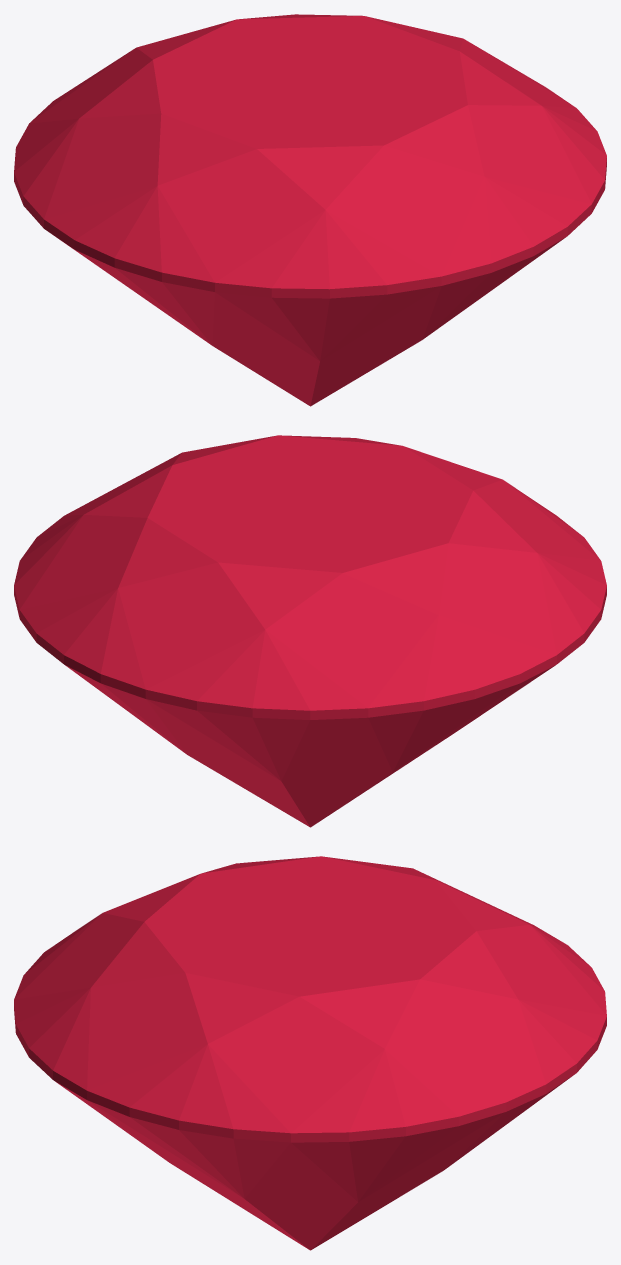
The model's file is stone-ruby.glb.
3 renders of one model, top to bottom at view 1: azimuth 30°, elevation 25°; view 2: azimuth 150°, elevation 25°; view 3: azimuth 270°, elevation 25°, orthographic.
Parts seen in each view (by area): view 1: Gemstone Ruby; view 2: Gemstone Ruby; view 3: Gemstone Ruby.
Part boxes in pixels (x1,y1,x2,y2): Gemstone Ruby: [14, 14, 606, 406]; Gemstone Ruby: [14, 435, 606, 827]; Gemstone Ruby: [14, 856, 606, 1250].
Size of the model in its own units: 2 by 1.2 by 2.
